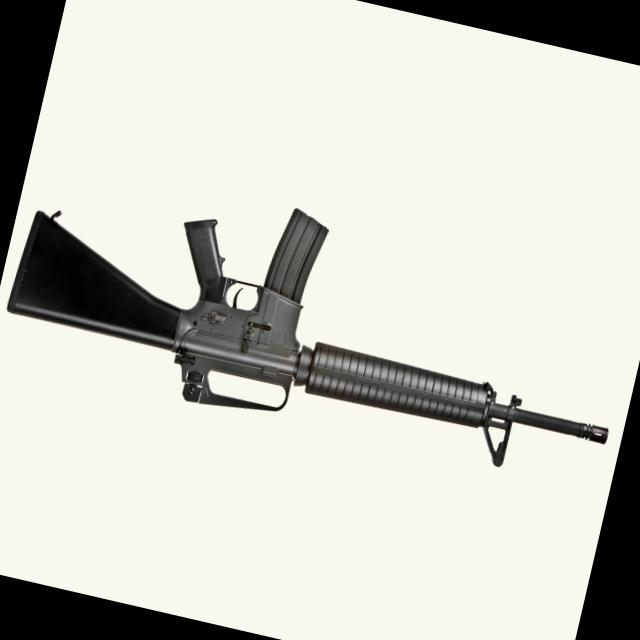Weapon: (0, 146, 640, 494)
